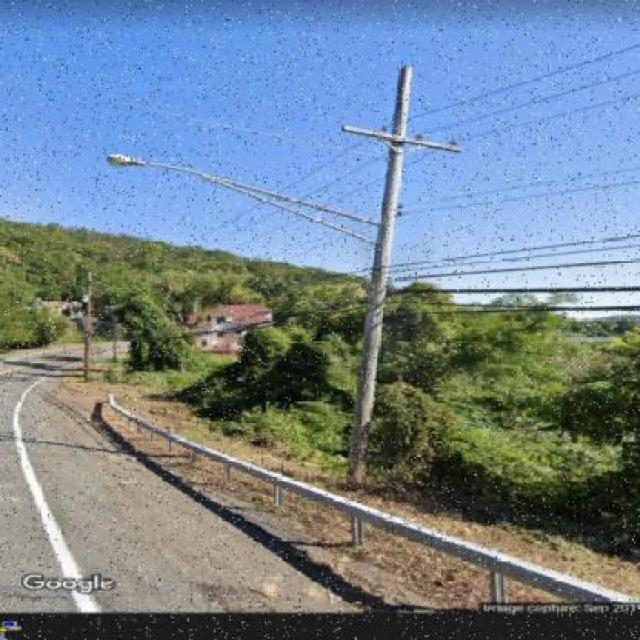pole: (282, 30, 476, 498)
